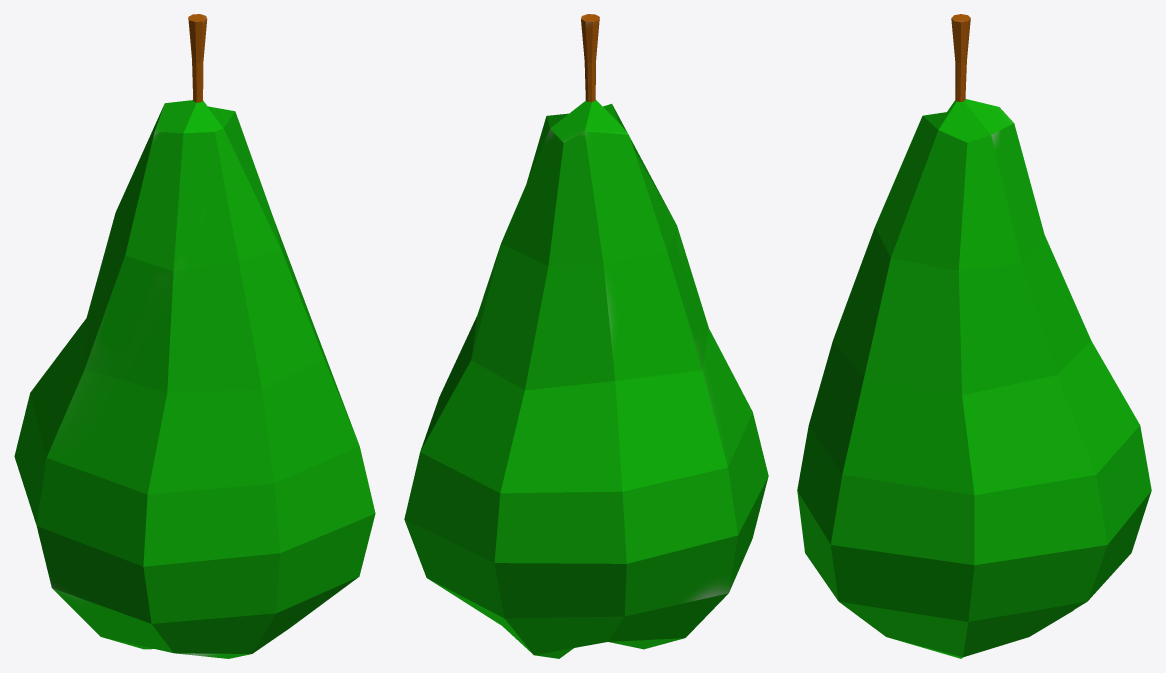
File: Pear.fbx
3 views of the same model, side by side, from view 1: azimuth 30°, elevation 25°; view 2: azimuth 150°, elevation 25°; view 3: azimuth 270°, elevation 25° (orthographic).
Parts seen in each view (by area): view 1: Cube; view 2: Cube; view 3: Cube.
Part boxes in pixels (x1=…): Cube: x1=14, y1=14, x2=375, y2=658; Cube: x1=404, y1=14, x2=768, y2=658; Cube: x1=797, y1=14, x2=1151, y2=658.
Size of the model in its own units: 44.07 by 84.32 by 44.07.
Materials: 1 (1 with a texture image).
